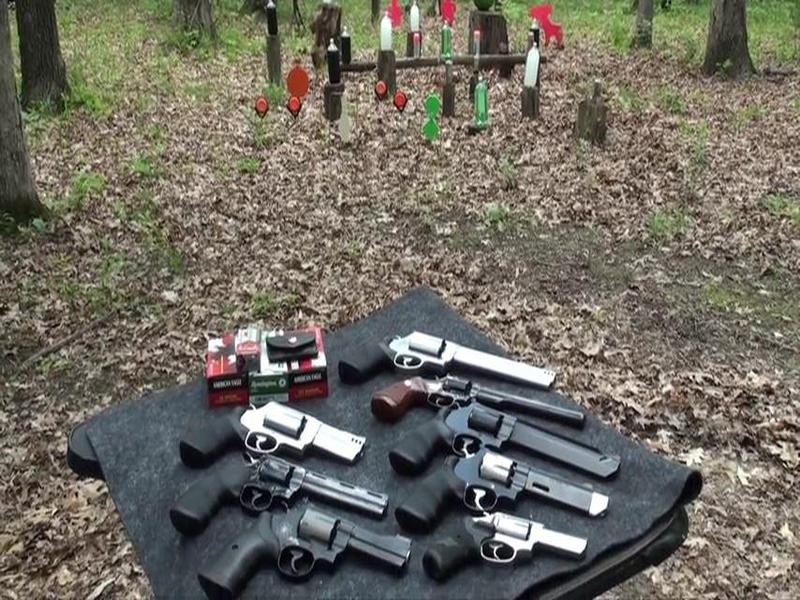Revolver: (169, 379, 377, 482)
